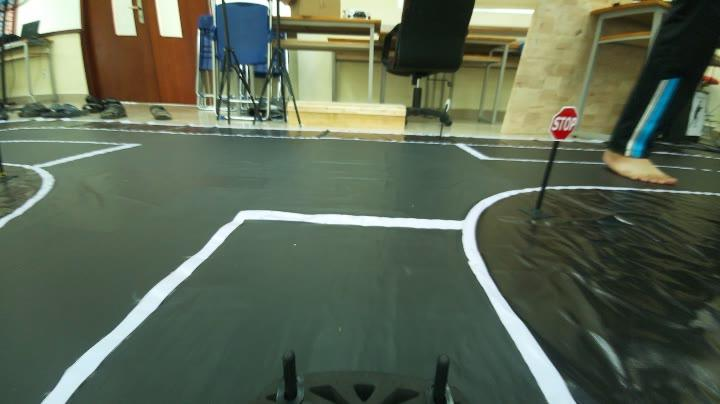stop: (550, 99, 583, 142)
